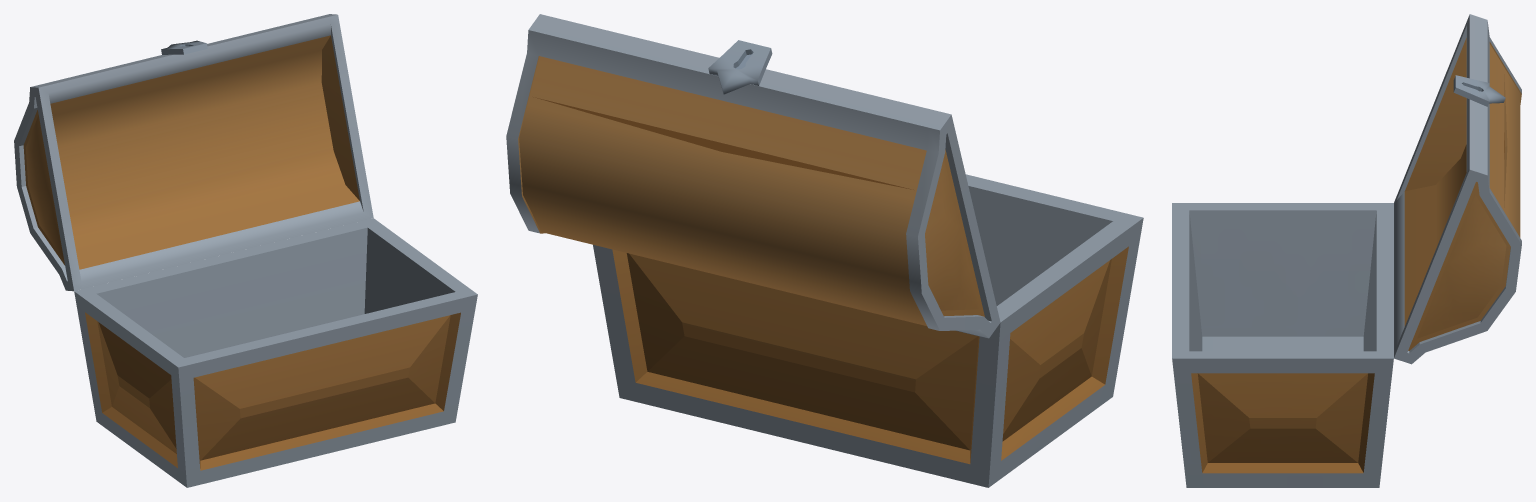
File: treasure open.FBX
3 renders of one model, left to right at view 1: azimuth 30°, elevation 25°; view 2: azimuth 150°, elevation 25°; view 3: azimuth 270°, elevation 25°, orthographic. The views are drawn at different scales.
Visible parts, largest first — view 1: Box022; view 2: Box022; view 3: Box022.
Part boxes in pixels (bbox=[...]): Box022: bbox=[14, 14, 477, 487]; Box022: bbox=[506, 14, 1143, 487]; Box022: bbox=[1172, 14, 1521, 487].
Bounding box in the file's own units: 167 × 159 × 169.
